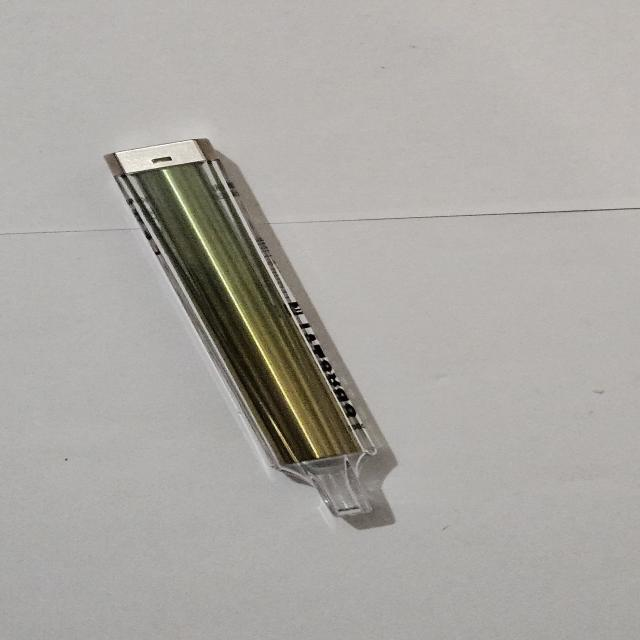Hazard: (102, 137, 386, 520)
